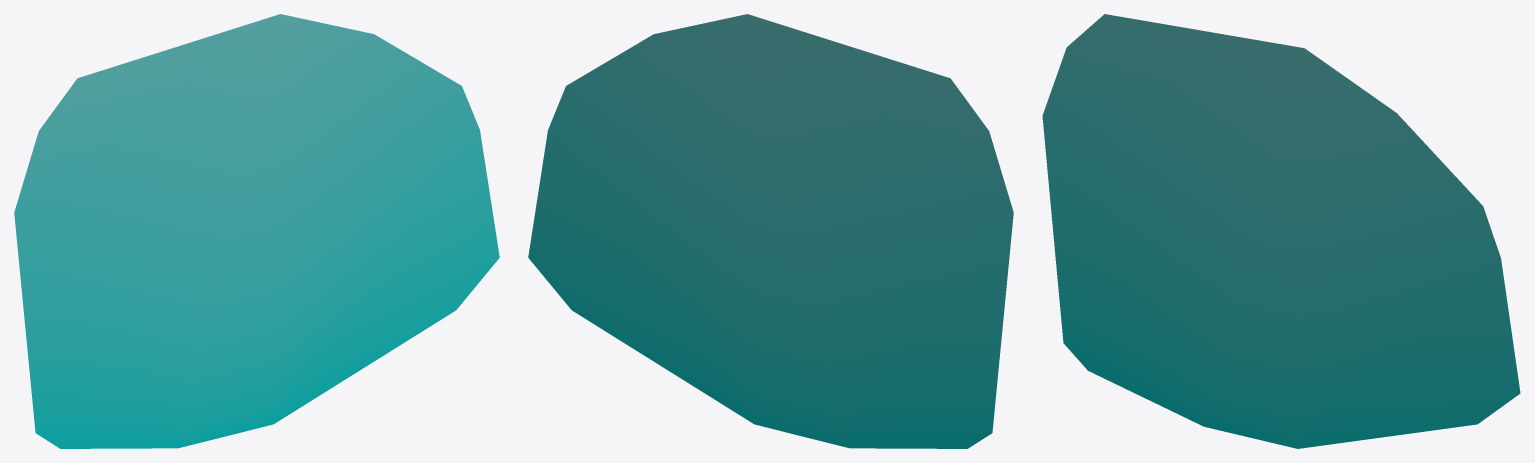
The model's file is Black_Locust_wdvhberja_Mid_wdvhberja_VarC_LOD3.fbx.
3 views of the same model, side by side, from view 1: azimuth 30°, elevation 25°; view 2: azimuth 150°, elevation 25°; view 3: azimuth 330°, elevation 25° (orthographic).
Parts seen in each view (by area): view 1: _vgsz_VarC_LOD4; view 2: _vgsz_VarC_LOD4; view 3: _vgsz_VarC_LOD4.
Part boxes in pixels (left/top/right/bottom): _vgsz_VarC_LOD4: left=14, top=14, right=499, bottom=448; _vgsz_VarC_LOD4: left=528, top=14, right=1013, bottom=448; _vgsz_VarC_LOD4: left=1042, top=14, right=1520, bottom=448.
Size of the model in its own units: 182 by 146 by 0.
